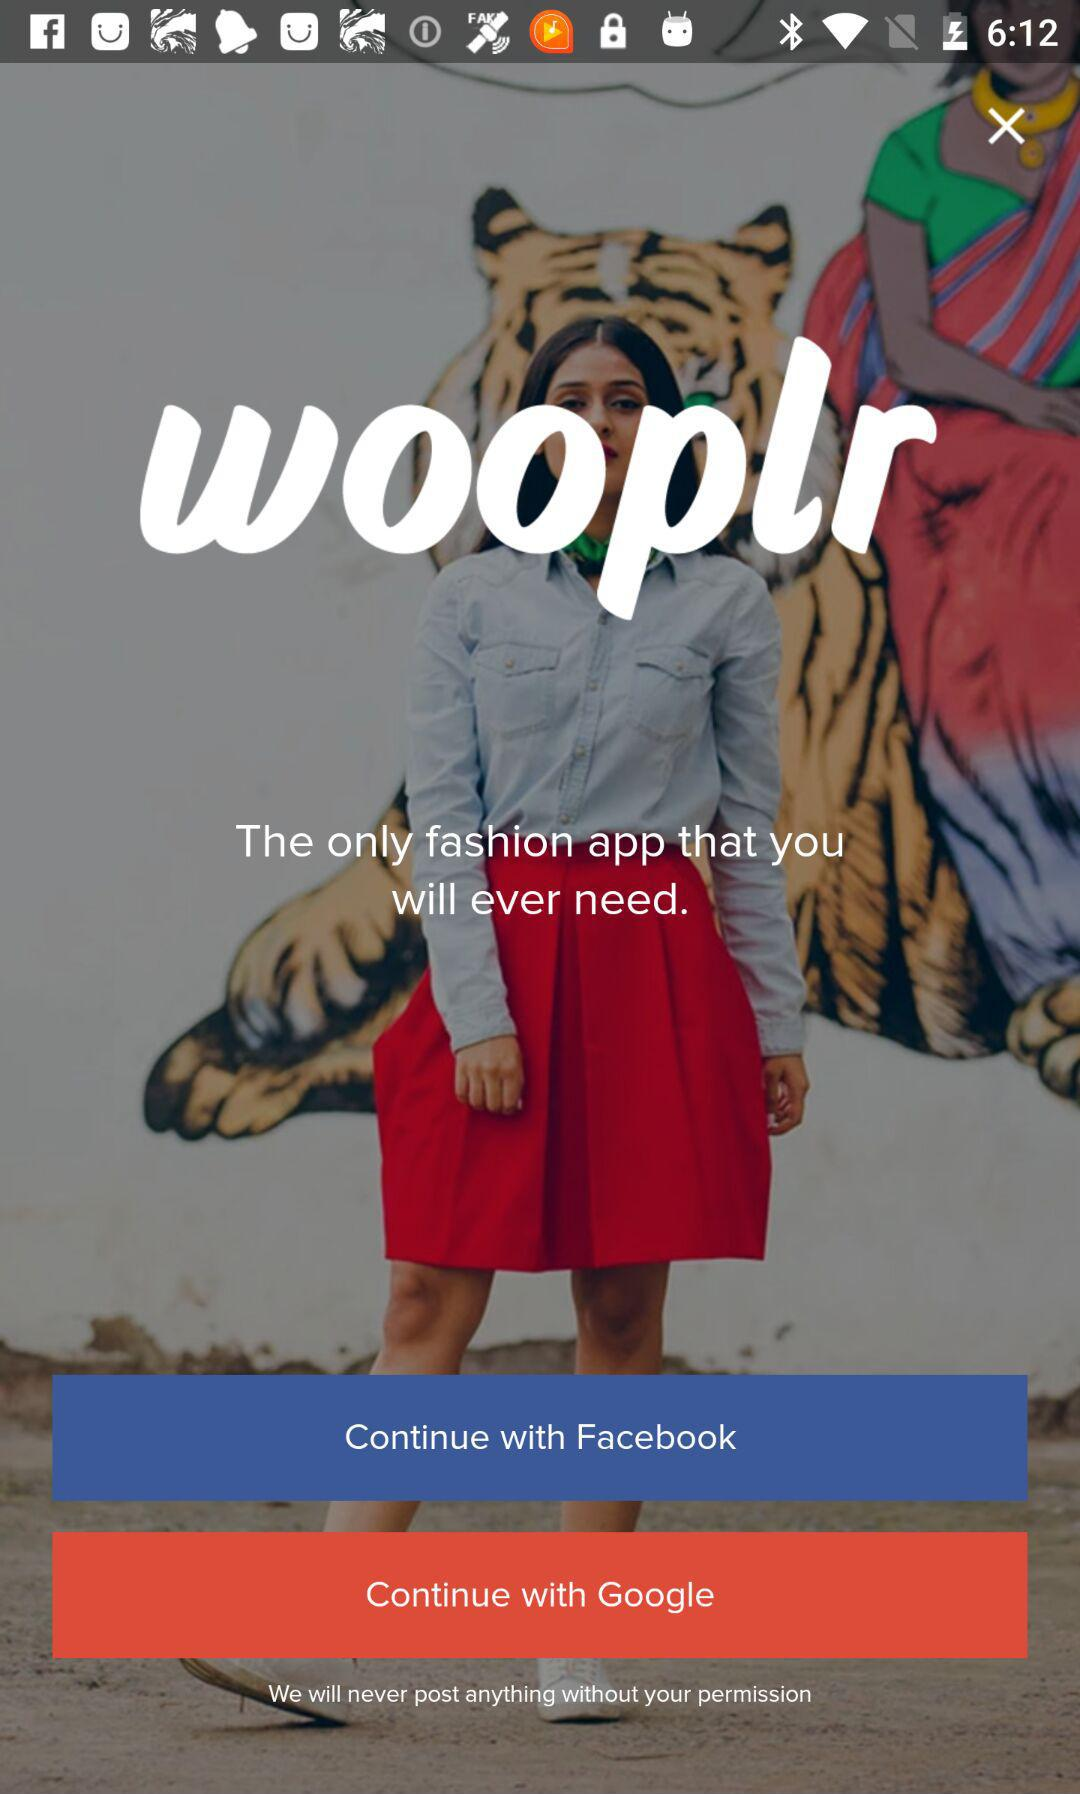BackgroundImage: (1, 64, 1080, 1794)
Image: (138, 334, 940, 623)
Text: (234, 823, 846, 918), (269, 1684, 812, 1709)
TextButton: (53, 1531, 1029, 1659), (53, 1375, 1027, 1502)
UpperTaskBar: (1, 1, 1080, 64)
